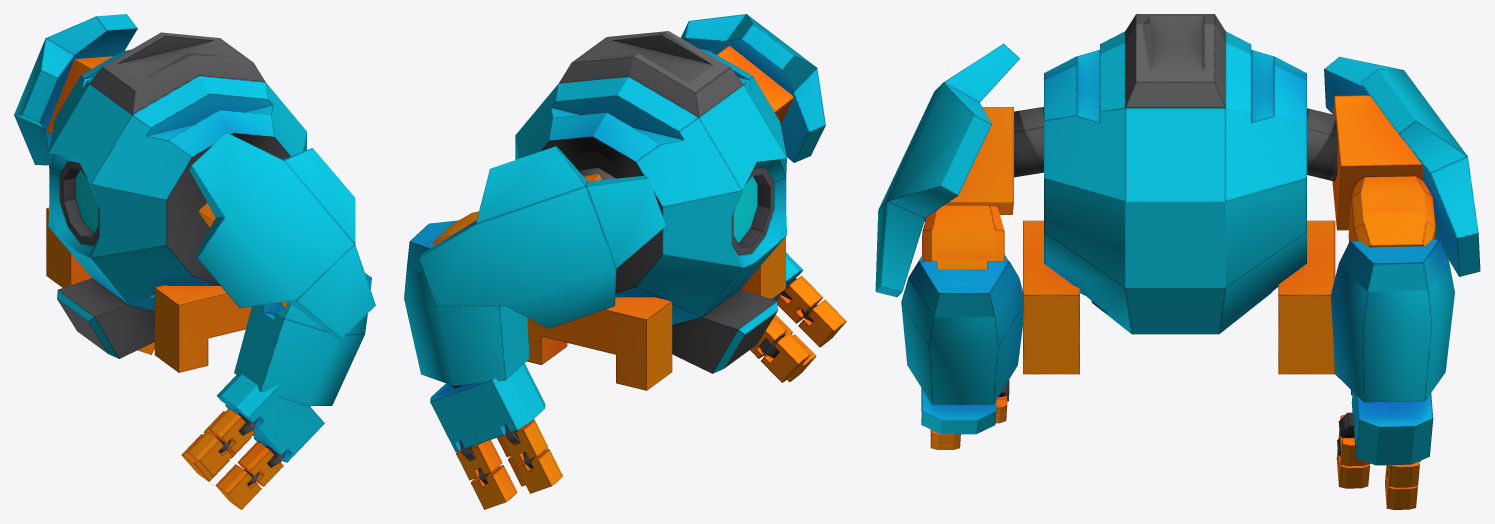
File: Body_Idle12.obj
3 renders of one model, left to right at view 1: azimuth 30°, elevation 25°; view 2: azimuth 150°, elevation 25°; view 3: azimuth 270°, elevation 25°, orthographic. The views are drawn at different scales.
Visible parts, largest first — view 1: Plane001, Object006, Object008, Object007, Object002; view 2: Plane001, Object002, Object004, Object003, Object006, Object008; view 3: Plane001, Object002, Object006, Object003, Object007, Object004, Object008, Object001, Object005.
Part boxes in pixels (x1,y1,x2,y2): Plane001: [46, 32, 306, 372]; Object006: [189, 132, 375, 338]; Object008: [181, 374, 324, 509]; Object007: [234, 273, 371, 406]; Object002: [14, 14, 137, 165]; Plane001: [515, 31, 786, 390]; Object002: [419, 146, 665, 328]; Object004: [430, 363, 562, 509]; Object003: [404, 220, 529, 385]; Object006: [680, 14, 825, 162]; Object008: [750, 252, 846, 382]; Plane001: [1023, 14, 1335, 374]; Object002: [1324, 56, 1480, 276]; Object006: [875, 43, 1019, 297]; Object003: [1331, 239, 1454, 402]; Object007: [901, 255, 1022, 404]; Object004: [1336, 390, 1433, 509]; Object008: [921, 380, 1009, 449]; Object001: [1307, 108, 1337, 181]; Object005: [1014, 107, 1043, 177].
Size of the model in its own units: 97.91 by 150 by 183.
